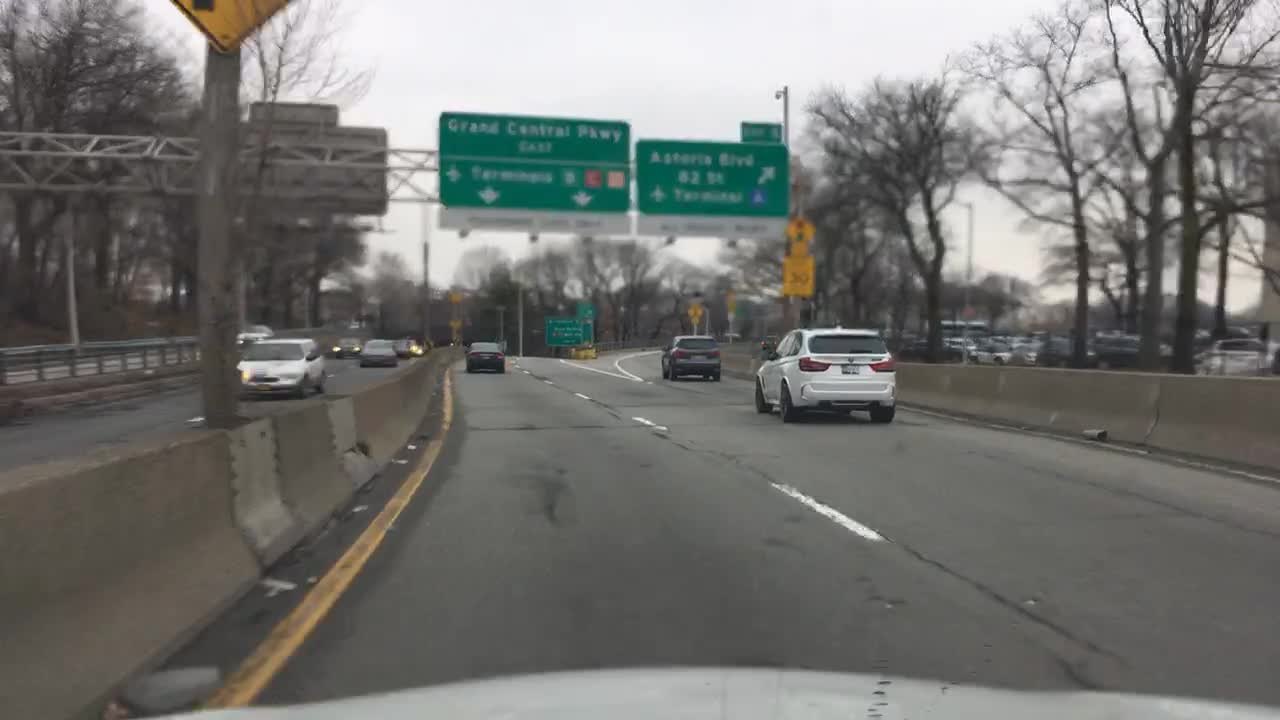bus: (925, 317, 984, 334)
car: (752, 317, 898, 422), (237, 338, 328, 396), (1191, 335, 1278, 375), (661, 333, 723, 379), (1051, 337, 1099, 366), (1092, 330, 1145, 355), (356, 337, 402, 365), (463, 342, 505, 370), (974, 345, 1010, 364), (239, 329, 271, 348), (1224, 319, 1248, 339), (333, 337, 361, 354), (1019, 345, 1039, 368), (948, 336, 973, 354), (1150, 341, 1176, 357), (1191, 323, 1209, 341), (761, 335, 781, 351), (393, 337, 410, 355), (982, 333, 1001, 347), (1012, 332, 1030, 345), (410, 337, 423, 352)
traffic sign: (437, 110, 633, 234), (634, 121, 790, 234), (246, 104, 387, 216), (169, 1, 304, 51), (545, 316, 595, 346), (785, 213, 818, 254), (783, 257, 814, 297), (722, 290, 736, 314), (689, 305, 703, 321), (579, 302, 593, 317), (449, 288, 459, 303), (961, 305, 973, 316), (449, 320, 461, 329)
